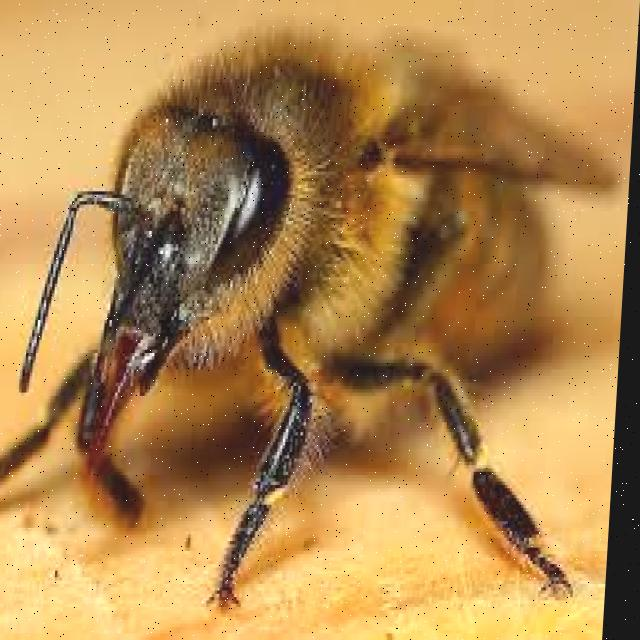Apis-mellifera-scutellata: (0, 6, 621, 628)
